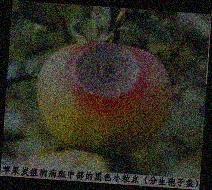rotten apple: (35, 41, 173, 155)
